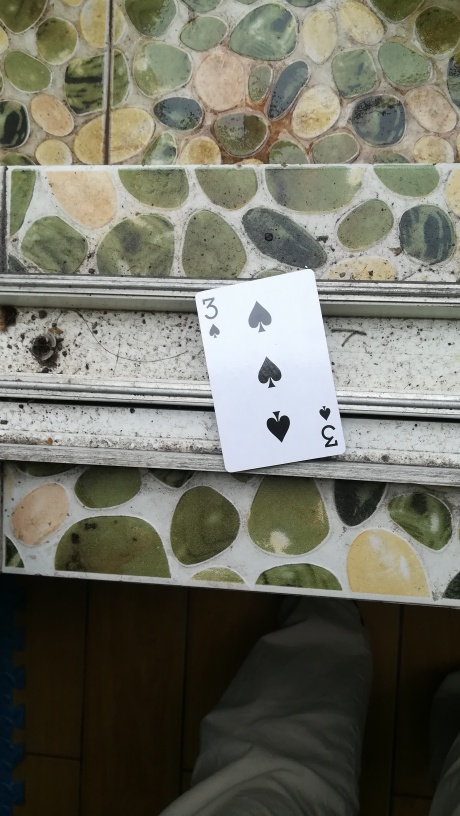ht 3: (192, 270, 349, 475)
